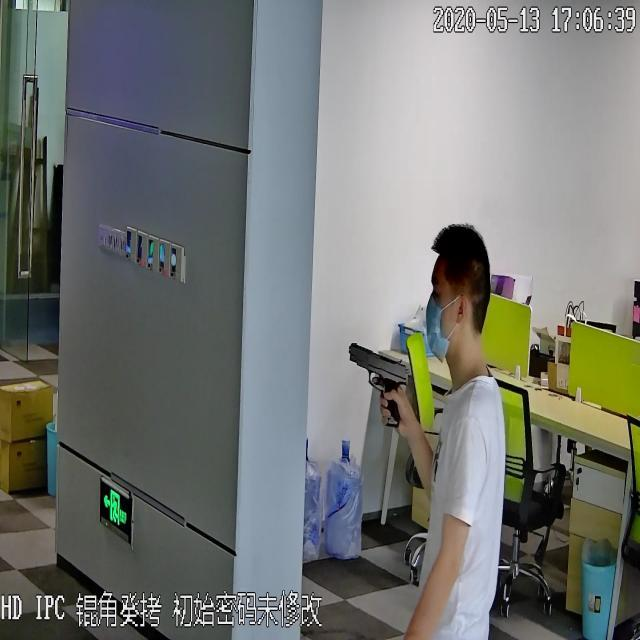gun: (347, 333, 411, 431)
